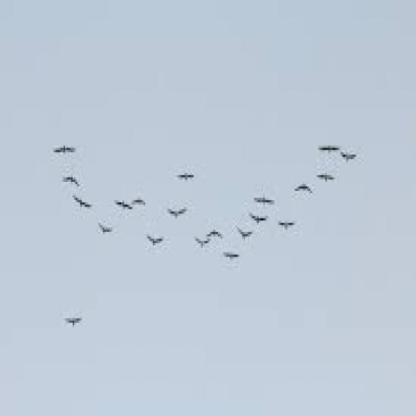bird: (59, 302, 86, 343), (248, 187, 282, 211), (70, 191, 96, 215), (294, 181, 318, 205), (167, 207, 192, 229), (277, 211, 301, 233), (314, 141, 342, 159), (247, 208, 271, 229), (113, 193, 134, 217), (50, 138, 75, 158), (169, 170, 199, 186), (339, 146, 360, 167), (315, 169, 337, 189), (147, 232, 169, 251), (194, 235, 213, 256), (237, 223, 256, 242), (60, 174, 83, 189), (99, 223, 117, 242), (220, 251, 246, 263), (133, 197, 152, 211), (206, 228, 225, 239)
